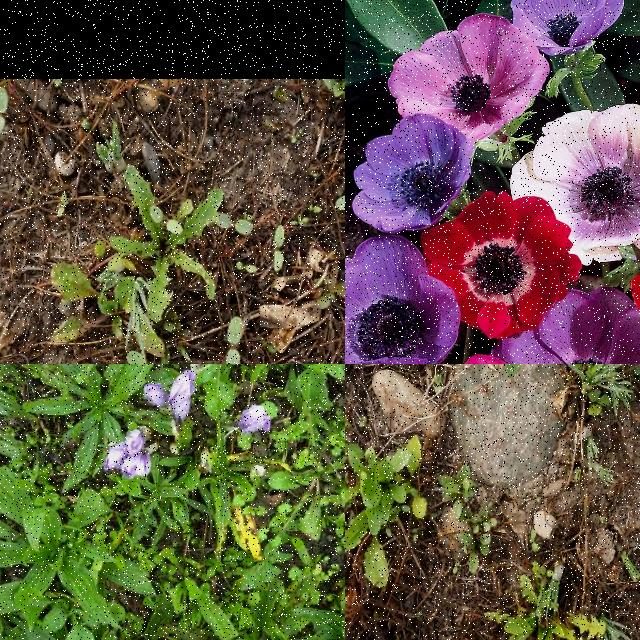flower: (168, 372, 192, 422), (241, 407, 269, 433), (144, 383, 166, 409)
overlap: (104, 429, 150, 478)
